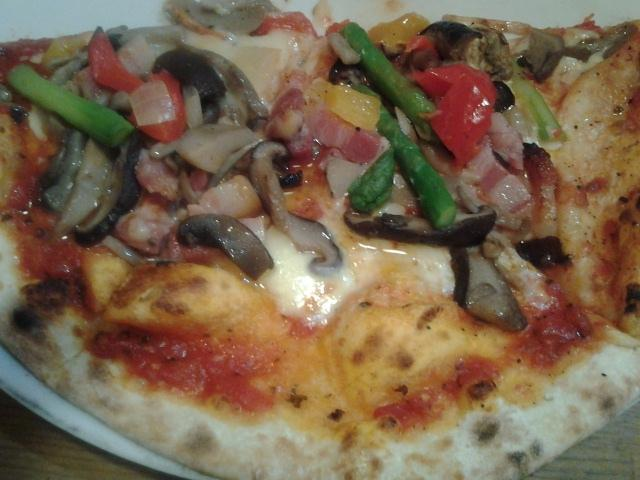asparagus: (355, 84, 457, 230), (6, 63, 136, 148), (339, 21, 437, 122), (348, 147, 396, 212)
bell pepper: (5, 63, 134, 150), (429, 73, 493, 170), (510, 58, 568, 142), (128, 68, 186, 142), (88, 26, 145, 95), (367, 12, 431, 48), (250, 12, 318, 38)
mushroom: (247, 138, 344, 276), (176, 42, 270, 130), (53, 137, 122, 236), (177, 214, 274, 282), (453, 246, 528, 331), (383, 206, 497, 246), (152, 49, 226, 102), (178, 124, 255, 174), (204, 136, 270, 192), (179, 2, 285, 34), (418, 20, 483, 68), (516, 28, 564, 74), (534, 46, 592, 84), (515, 235, 574, 270)
onion: (308, 103, 382, 164), (174, 123, 258, 174), (233, 45, 282, 103), (54, 182, 102, 240), (129, 80, 176, 126), (326, 156, 366, 202), (489, 174, 532, 213), (117, 35, 156, 78), (216, 181, 247, 218), (327, 32, 361, 64), (182, 86, 204, 130), (552, 56, 582, 85), (562, 28, 600, 48)
tomato: (412, 64, 500, 174), (88, 26, 146, 96), (140, 70, 186, 142), (250, 12, 318, 38), (404, 36, 438, 60)
